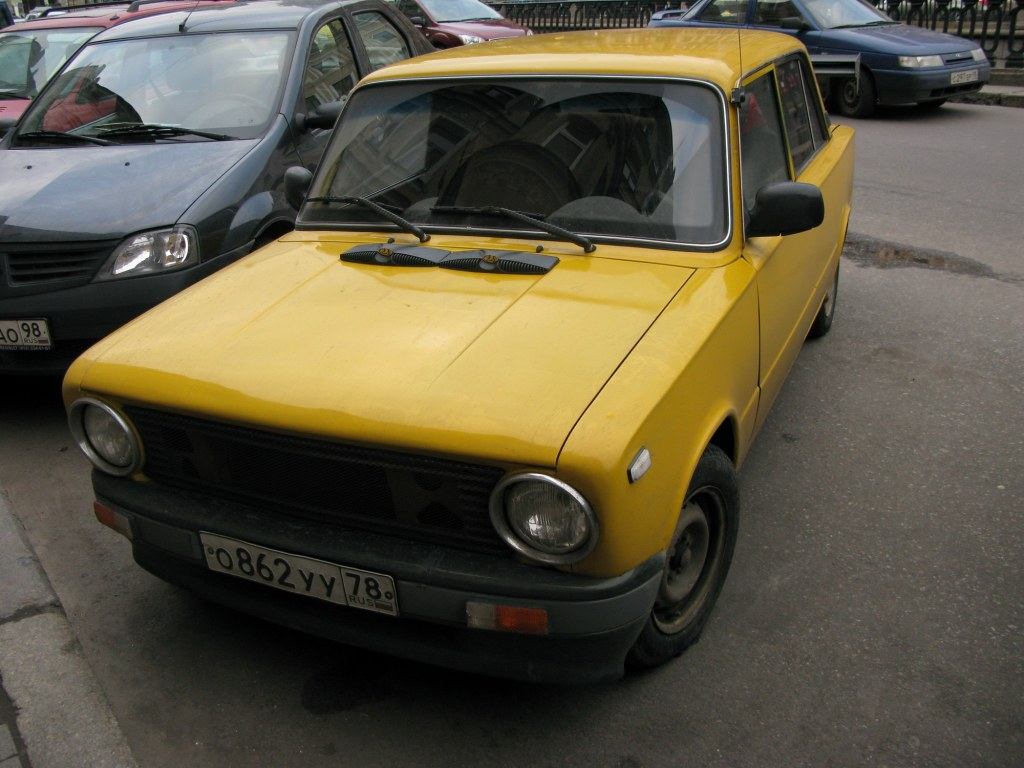car_front: (64, 366, 624, 688)
plate: (199, 529, 400, 617)
